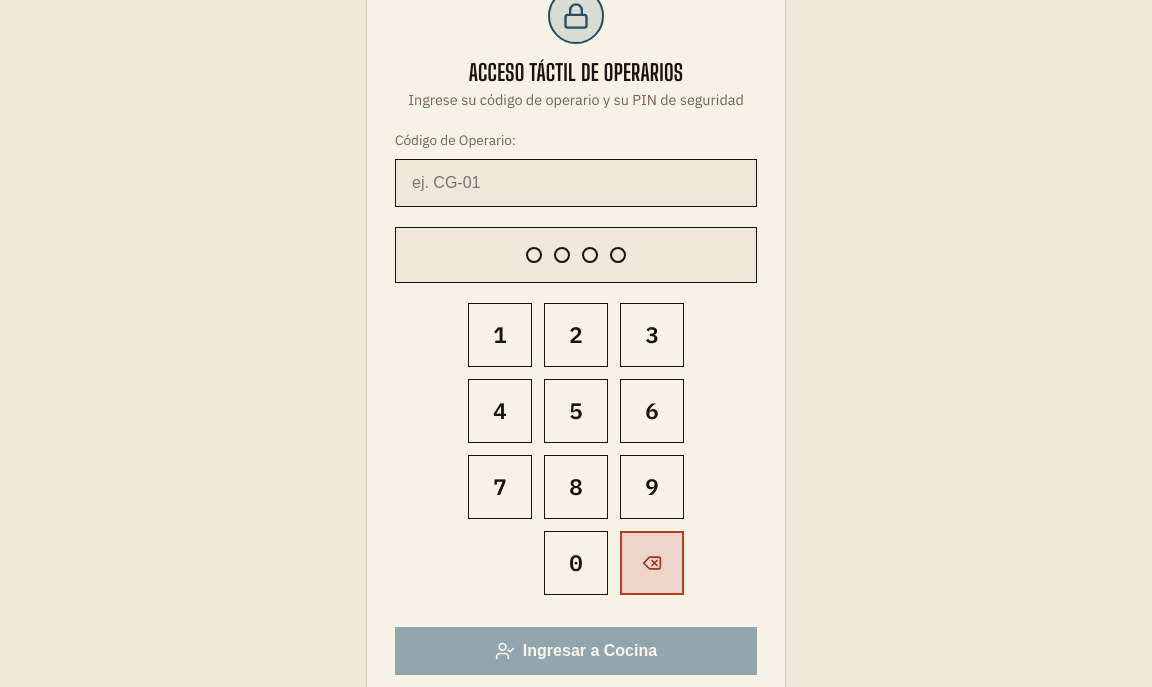
Test case: TK-180-FE: el login usa los puntos compartidos › anuncia el progreso del PIN al pulsar dígitos
This screenshot has width=1152, height=687.
expect the picture named "0 dígitos introducidos" is shown: met, box [395,227,757,283]
Click the button "7". click: click(500, 487)
box: [468,455,532,519]
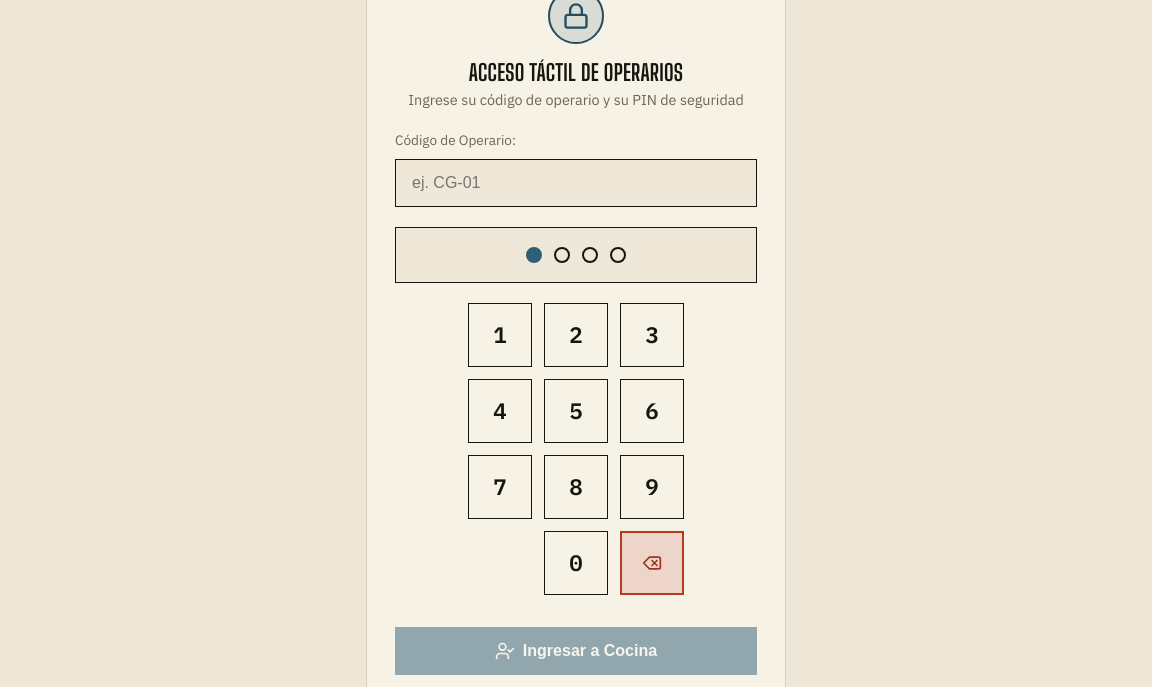
expect the picture named "1 dígito introducido" is shown: met, box [395,227,757,283]
